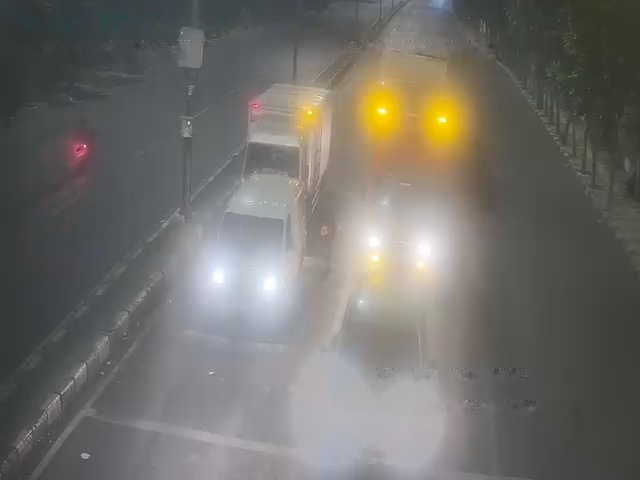Mobil: (331, 277, 430, 440)
Truk: (236, 80, 331, 311), (366, 87, 463, 274)
